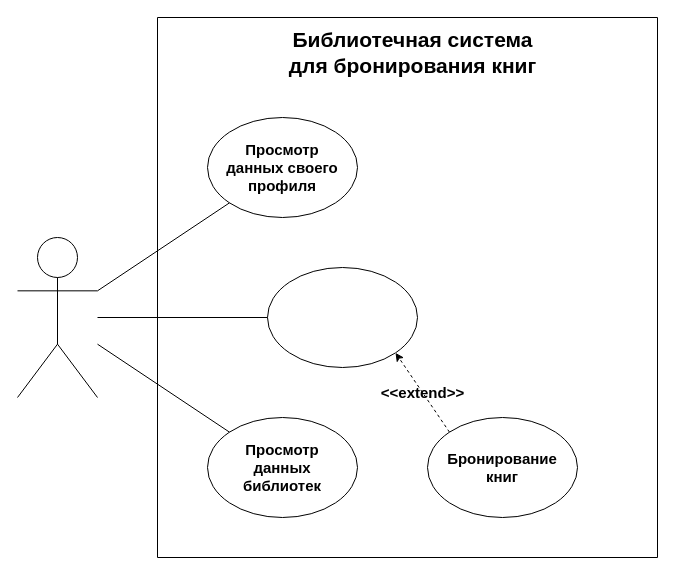
This 675x575 diagram has some shape labels left out. The centre of each missing label's shape, as x and y in pixels:
Просмотр данных книг: [342,317]
Читатель: [57,317]
